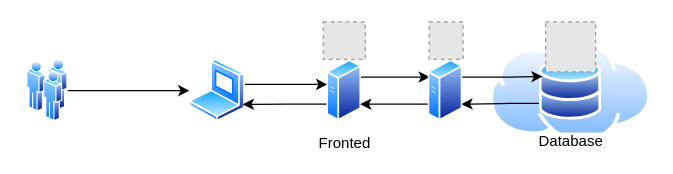
Some shapes in this 673 by 174 pixel diagram are drawn without their labels. Grey dashed boxes stand in for pictures. The centre of each missing label's shape, as x and y in pixels:
"Backend" goes at point (445, 90).
"USERS" goes at point (47, 90).
